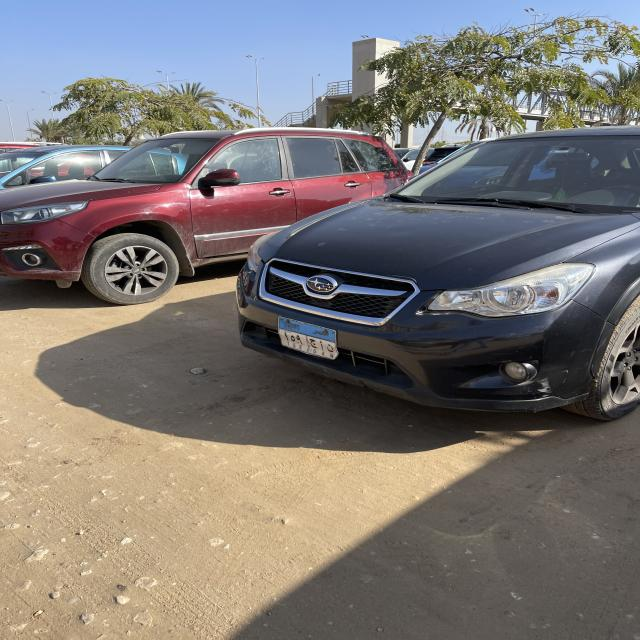License Plate: (278, 317, 339, 360)
